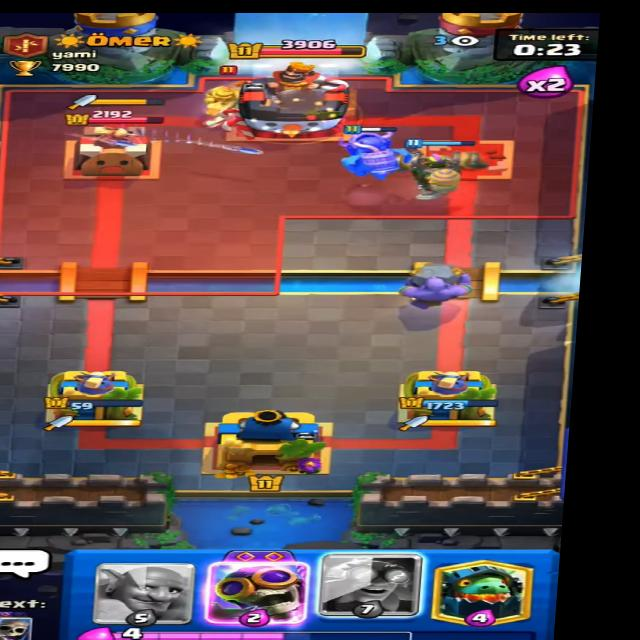prince: (229, 46, 296, 99)
